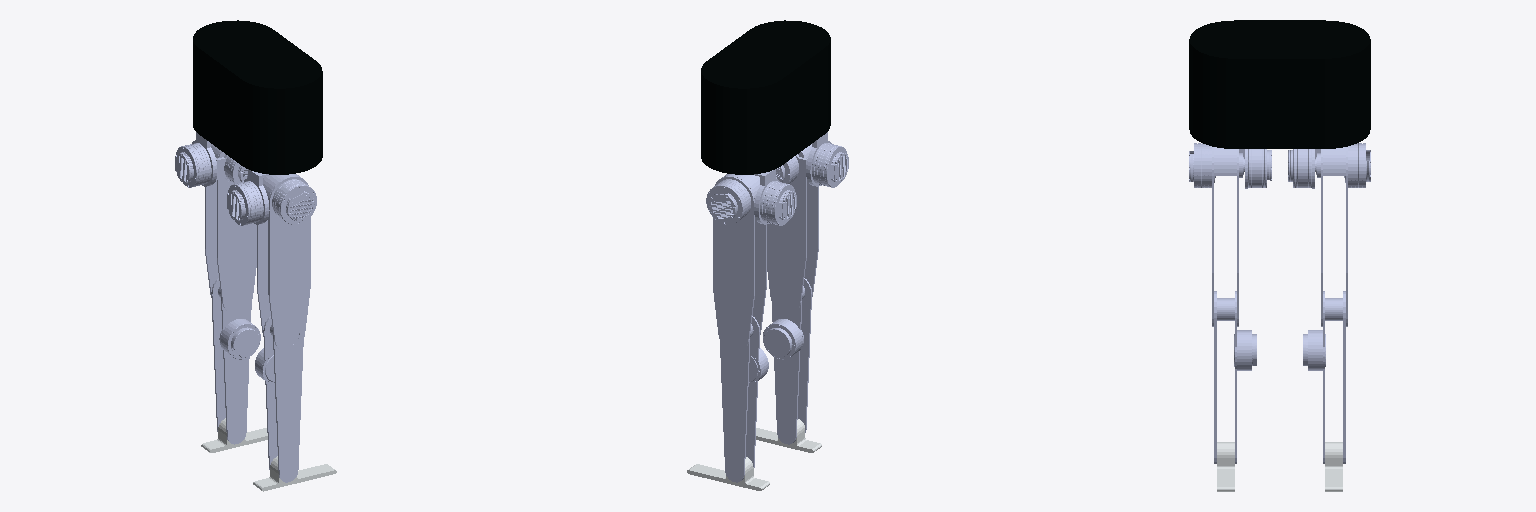
The robot description file, URDF, robot "leg10":
<?xml version="1.0" encoding="utf-8"?>
<!-- This URDF was automatically created by SolidWorks to URDF Exporter! Originally created by [author] ([email redacted]) 
     Commit Version: 1.6.0-4-g7f85cfe  Build Version: 1.6.7995.38578
     For more information, please see http://wiki.ros.org/sw_urdf_exporter -->
<robot
  name="leg10">
  <link
    name="base">
    <inertial>
      <origin
        xyz="-7.027E-14 -3.9404E-13 0.058682"
        rpy="0 0 0" />
      <mass
        value="16.0" />
      <inertia
        ixx="0.329343"
        ixy="0.000022"
        ixz="0"
        iyy="0.156277"
        iyz="0"
        izz="0.304508" />
    </inertial>
    <visual>
      <origin
        xyz="0 0 0"
        rpy="0 0 0" />
      <geometry>
        <mesh
          filename="meshes/base.STL" />
      </geometry>
      <material
        name="">
        <color
          rgba="0.02745 0.05098 0.05098 1" />
      </material>
    </visual>
    <collision>
      <origin
        xyz="0 0 0"
        rpy="0 0 0" />
      <geometry>
        <mesh
          filename="meshes/base.STL" />
      </geometry>
    </collision>
  </link>
  <link
    name="R_hip">
    <inertial>
      <origin
        xyz="-0.093816 -5.9543E-05 -0.064188"
        rpy="0 0 0" />
      <mass
        value="1.3589" />
      <inertia
        ixx="0.002069"
        ixy="-3E-06"
        ixz="-0.000414"
        iyy="0.00199"
        iyz="0"
        izz="0.001505" />
    </inertial>
    <visual>
      <origin
        xyz="0 0 0"
        rpy="0 0 0" />
      <geometry>
        <mesh
          filename="meshes/R_hip.STL" />
      </geometry>
      <material
        name="">
        <color
          rgba="0.79216 0.81961 0.93333 1" />
      </material>
    </visual>
    <!-- <collision>
      <origin
        xyz="0 0 0"
        rpy="0 0 0" />
      <geometry>
        <mesh
          filename="package://leg10/meshes/R_hip.STL" />
      </geometry>
    </collision> -->
  </link>
  <joint
    name="R_hip_joint"
    type="revolute">
    <origin
      xyz="0 -0.12 -0.057"
      rpy="0 0 0" />
    <parent
      link="base" />
    <child
      link="R_hip" />
    <axis
      xyz="0 0 1" />
    <limit
      lower="-1.5"
      upper="1.5"
      effort="120.75" 
      velocity="301.42" />
      <dynamics damping="0.0" friction="0.0"/>
  </joint>
  <link
    name="R_hip2">
    <inertial>
      <origin
        xyz="0.05961 0.064582 5.875E-05"
        rpy="0 0 0" />
      <mass
        value="1.3256" />
      <inertia
        ixx="0.001232"
        ixy="-0.00022"
        ixz="-1E-06"
        iyy="0.001819"
        iyz="-2E-06"
        izz="0.001515" />
    </inertial>
    <visual>
      <origin
        xyz="0 0 0"
        rpy="0 0 0" />
      <geometry>
        <mesh
          filename="meshes/R_hip2.STL" />
      </geometry>
      <material
        name="">
        <color
          rgba="0.79216 0.81961 0.93333 1" />
      </material>
    </visual>
    <!-- <collision>
      <origin
        xyz="0 0 0"
        rpy="0 0 0" />
      <geometry>
        <mesh
          filename="package://leg10/meshes/R_hip2.STL" />
      </geometry>
    </collision> -->
  </link>
  <joint
    name="R_hip2_joint"
    type="revolute">
    <origin
      xyz="-0.0633 0 -0.07"
      rpy="0 0 0" />
    <parent
      link="R_hip" />
    <child
      link="R_hip2" />
    <axis
      xyz="1 0 0" />
    <limit
      lower="-1"
      upper="0.5"
      effort="120.75" 
      velocity="301.42" />
      <dynamics damping="0.0" friction="0.0"/>
  </joint>
  <link
    name="R_thigh">
    <inertial>
      <origin
        xyz="5.9756E-06 -0.018015 -0.1164"
        rpy="0 0 0" />
      <mass
        value="2.2" />
      <inertia
        ixx="0.046059"
        ixy="1E-06"
        ixz="-2E-06"
        iyy="0.045326"
        iyz="0.004426"
        izz="0.00392" />
    </inertial>
    <visual>
      <origin
        xyz="0 0 0"
        rpy="0 0 0" />
      <geometry>
        <mesh
          filename="meshes/R_thigh.STL" />
      </geometry>
      <material
        name="">
        <color
          rgba="0.79216 0.81961 0.93333 1" />
      </material>
    </visual>
    <collision>
        <origin rpy="0 0 0" xyz="0.0 0.0 -0.16"/>
        <geometry>
            <cylinder radius="0.040" length="0.29"/>
        </geometry><!---->
    </collision>
  </link>
  <joint
    name="R_thigh_joint"
    type="revolute">
    <origin
      xyz="0.0633 0 0"
      rpy="0 0 0" />
    <parent
      link="R_hip2" />
    <child
      link="R_thigh" />
    <axis
      xyz="0 1 0" />
    <limit
      lower="-1.7"
      upper="0"
      effort="120.75" 
      velocity="301.42" />
    <dynamics damping="0.0" friction="0.0"/>  
  </joint>
  <link
    name="R_calf">
    <inertial>
      <origin
        xyz="-4.2058E-05 0.021697 -0.14324"
        rpy="0 0 0" />
      <mass
        value="1.35" />
      <inertia
        ixx="0.013647"
        ixy="2E-06"
        ixz="1E-06"
        iyy="0.013089"
        iyz="-0.001269"
        izz="0.001663" />
    </inertial>
    <visual>
      <origin
        xyz="0 0 0"
        rpy="0 0 0" />
      <geometry>
        <mesh
          filename="meshes/R_calf.STL" />
      </geometry>
      <material
        name="">
        <color
          rgba="0.79216 0.81961 0.93333 1" />
      </material>
    </visual>
    <collision>
        <origin rpy="0 0 0" xyz="0.0 0.0 -0.16"/>
        <geometry>
            <cylinder radius="0.040" length="0.29"/>
        </geometry>
    </collision>
  </link>
  <joint
    name="R_calf_joint"
    type="revolute">
    <origin
      xyz="0 0 -0.35"
      rpy="0 0 0" />
    <parent
      link="R_thigh" />
    <child
      link="R_calf" />
    <axis
      xyz="0 1 0" />
    <limit
      lower="0"
      upper="2"
      effort="120.75" 
      velocity="301.42" />
      <dynamics damping="0.0" friction="0.0"/>
  </joint>
  <link
    name="R_toe">
    <inertial>
      <origin
        xyz="0.016891 0 -0.018446"
        rpy="0 0 0" />
      <mass
        value="0.4" />
      <inertia
        ixx="0.000165"
        ixy="0"
        ixz="7.8E-05"
        iyy="0.000979"
        iyz="0"
        izz="0.00092" />
    </inertial>
    <visual>
      <origin
        xyz="0 0 0"
        rpy="0 0 0" />
      <geometry>
        <mesh
          filename="meshes/R_toe.STL" />
      </geometry>
      <material
        name="">
        <color
          rgba="0.89804 0.91765 0.92941 1" />
      </material>
    </visual>
    <collision>
      <origin
        xyz="0 0 0"
        rpy="0 0 0" />
      <geometry>
        <mesh
          filename="meshes/R_toe.STL" />
      </geometry>
    </collision>
  </link>
  <joint
    name="R_toe_joint"
    type="revolute">
    <origin
      xyz="0 0 -0.35"
      rpy="0 0 0" />
    <parent
      link="R_calf" />
    <child
      link="R_toe" />
    <axis
      xyz="0 1 0" />
    <limit
      lower="-0.8"
      upper="0.8"
      effort="20.16"
      velocity="37.5" />
  </joint>
  <link
    name="L_hip">
    <inertial>
      <origin
        xyz="-0.093816 -5.9543E-05 -0.064188"
        rpy="0 0 0" />
      <mass
        value="1.3589" />
      <inertia
        ixx="0.002069"
        ixy="-3E-06"
        ixz="-0.000414"
        iyy="0.00199"
        iyz="0"
        izz="0.001505" />
    </inertial>
    <visual>
      <origin
        xyz="0 0 0"
        rpy="0 0 0" />
      <geometry>
        <mesh
          filename="meshes/L_hip.STL" />
      </geometry>
      <material
        name="">
        <color
          rgba="0.79216 0.81961 0.93333 1" />
      </material>
    </visual>
    <!-- <collision>
      <origin
        xyz="0 0 0"
        rpy="0 0 0" />
      <geometry>
        <mesh
          filename="package://leg10/meshes/L_hip.STL" />
      </geometry>
    </collision> -->
  </link>
  <joint
    name="L_hip_joint"
    type="revolute">
    <origin
      xyz="0 0.12 -0.057"
      rpy="0 0 0" />
    <parent
      link="base" />
    <child
      link="L_hip" />
    <axis
      xyz="0 0 1" />
    <limit
      lower="-1.5"
      upper="1.5"
      effort="120.75" 
      velocity="301.42" />
      <dynamics damping="0.0" friction="0.0"/>
  </joint>
  <link
    name="L_hip2">
    <inertial>
      <origin
        xyz="0.05961 -0.064582 5.875E-05"
        rpy="0 0 0" />
      <mass
        value="1.3256" />
      <inertia
        ixx="0.001232"
        ixy="0.000222"
        ixz="1E-06"
        iyy="0.001819"
        iyz="2E-06"
        izz="0.001515" />
    </inertial>
    <visual>
      <origin
        xyz="0 0 0"
        rpy="0 0 0" />
      <geometry>
        <mesh
          filename="meshes/L_hip2.STL" />
      </geometry>
      <material
        name="">
        <color
          rgba="0.79216 0.81961 0.93333 1" />
      </material>
    </visual>
    <!-- <collision>
      <origin
        xyz="0 0 0"
        rpy="0 0 0" />
      <geometry>
        <mesh
          filename="package://leg10/meshes/L_hip2.STL" />
      </geometry>
    </collision> -->
  </link>
  <joint
    name="L_hip2_joint"
    type="revolute">
    <origin
      xyz="-0.0633 0 -0.07"
      rpy="0 0 0" />
    <parent
      link="L_hip" />
    <child
      link="L_hip2" />
    <axis
      xyz="1 0 0" />
    <limit
      lower="-0.5"
      upper="1"
      effort="120.75" 
      velocity="301.42" />
      <dynamics damping="0.0" friction="0.0"/>
  </joint>
  <link
    name="L_thigh">
    <inertial>
      <origin
        xyz="-5.9756E-06 0.018015 -0.1164"
        rpy="0 0 0" />
      <mass
        value="2.2" />
      <inertia
        ixx="0.046059"
        ixy="1E-06"
        ixz="2E-06"
        iyy="0.045326"
        iyz="-0.004426"
        izz="0.00392" />
    </inertial>
    <visual>
      <origin
        xyz="0 0 0"
        rpy="0 0 0" />
      <geometry>
        <mesh
          filename="meshes/L_thigh.STL" />
      </geometry>
      <material
        name="">
        <color
          rgba="0.79216 0.81961 0.93333 1" />
      </material>
    </visual>
    <collision>
        <origin rpy="0 0 0" xyz="0.0 0.0 -0.16"/>
        <geometry>
            <cylinder radius="0.040" length="0.29"/>
        </geometry>
    </collision>
  </link>
  <joint
    name="L_thigh_joint"
    type="revolute">
    <origin
      xyz="0.0633 0 0"
      rpy="0 0 0" />
    <parent
      link="L_hip2" />
    <child
      link="L_thigh" />
    <axis
      xyz="0 1 0" />
    <limit
      lower="-1.7"
      upper="0"
      effort="120.75" 
      velocity="301.42" />
      <dynamics damping="0.0" friction="0.0"/>
  </joint>
  <link
    name="L_calf">
    <inertial>
      <origin
        xyz="4.2058E-05 -0.021697 -0.14324"
        rpy="0 0 0" />
      <mass
        value="1.35" />
      <inertia
        ixx="0.013647"
        ixy="2E-06"
        ixz="-1E-06"
        iyy="0.013089"
        iyz="0.001269"
        izz="0.001663" />
    </inertial>
    <visual>
      <origin
        xyz="0 0 0"
        rpy="0 0 0" />
      <geometry>
        <mesh
          filename="meshes/L_calf.STL" />
      </geometry>
      <material
        name="">
        <color
          rgba="0.79216 0.81961 0.93333 1" />
      </material>
    </visual>
    <collision>
        <origin rpy="0 0 0" xyz="0.0 0.0 -0.16"/>
        <geometry>
            <cylinder radius="0.040" length="0.29"/>
        </geometry>
    </collision>
  </link>
  <joint
    name="L_calf_joint"
    type="revolute">
    <origin
      xyz="0 0 -0.35"
      rpy="0 0 0" />
    <parent
      link="L_thigh" />
    <child
      link="L_calf" />
    <axis
      xyz="0 1 0" />
    <limit
      lower="0"
      upper="2"
      effort="120.75" 
      velocity="301.42" />
  </joint>
  <link
    name="L_toe">
    <inertial>
      <origin
        xyz="0.016891 0 -0.018446"
        rpy="0 0 0" />
      <mass
        value="0.4" />
      <inertia
        ixx="0.000165"
        ixy="0"
        ixz="7.8E-05"
        iyy="0.000979"
        iyz="0"
        izz="0.00092" />
    </inertial>
    <visual>
      <origin
        xyz="0 0 0"
        rpy="0 0 0" />
      <geometry>
        <mesh
          filename="meshes/L_toe.STL" />
      </geometry>
      <material
        name="">
        <color
          rgba="0.89804 0.91765 0.92941 1" />
      </material>
    </visual>
    <collision>
      <origin
        xyz="0 0 0"
        rpy="0 0 0" />
      <geometry>
        <mesh
          filename="meshes/L_toe.STL" />
      </geometry>
    </collision>
  </link>
  <joint
    name="L_toe_joint"
    type="revolute">
    <origin
      xyz="0 0 -0.35"
      rpy="0 0 0" />
    <parent
      link="L_calf" />
    <child
      link="L_toe" />
    <axis
      xyz="0 1 0" />
    <limit
      lower="-0.8"
      upper="0.8"
      effort="20.16"
      velocity="37.5" />
  </joint>
</robot>

--- What the picture shows (computed from the rendered views, not written in the file) ---
3 views of the same robot in one strip: view 1: azimuth 30°, elevation 25°; view 2: azimuth 150°, elevation 25°; view 3: azimuth 270°, elevation 25° (orthographic).
Model leg10 with 11 links and 10 joints (10 revolute), rooted at base, posed all joints at 0.
Visible links, largest first — view 1: base, R_thigh, L_thigh, L_calf, R_calf, R_hip, L_hip, R_toe, L_toe, L_hip2; view 2: base, L_thigh, R_thigh, R_calf, L_calf, L_hip, R_hip, L_toe, R_toe, R_hip2; view 3: base, L_thigh, R_thigh, R_calf, L_calf, L_hip2, R_hip2, R_toe, L_toe.
Link boxes in pixels (box(x1,y1,x2,y2)): base: box(193, 20, 322, 174); R_thigh: box(257, 174, 316, 351); L_thigh: box(205, 144, 256, 313); L_calf: box(211, 278, 260, 444); R_calf: box(255, 316, 303, 482); R_hip: box(227, 169, 269, 225); L_hip: box(175, 132, 217, 187); R_toe: box(253, 456, 336, 491); L_toe: box(201, 418, 267, 452); L_hip2: box(216, 154, 247, 183); base: box(701, 20, 830, 174); L_thigh: box(706, 174, 766, 351); R_thigh: box(767, 144, 818, 313); R_calf: box(763, 278, 811, 444); L_calf: box(720, 316, 768, 482); L_hip: box(754, 169, 796, 225); R_hip: box(806, 132, 848, 187); L_toe: box(687, 457, 769, 490); R_toe: box(756, 419, 821, 452); R_hip2: box(776, 154, 807, 183); base: box(1189, 20, 1370, 148); L_thigh: box(1316, 143, 1370, 326); R_thigh: box(1189, 143, 1243, 326); R_calf: box(1214, 291, 1256, 463); L_calf: box(1303, 291, 1345, 463); L_hip2: box(1288, 149, 1320, 188); R_hip2: box(1239, 149, 1271, 188); R_toe: box(1217, 442, 1234, 491); L_toe: box(1325, 442, 1342, 491).
Size in the robot's own frame: 0.263 by 0.4038 by 1.04 metres.
11 mesh visuals loaded from 11 distinct referenced files (11 binary STL).
